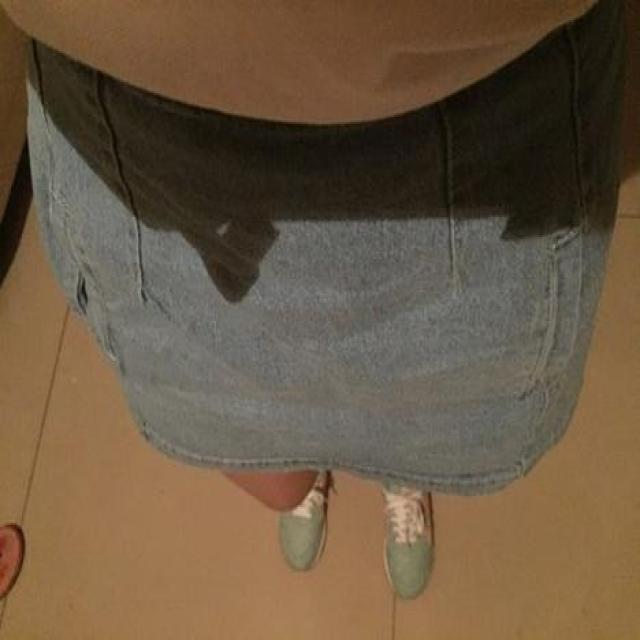skirt: (29, 5, 622, 469)
